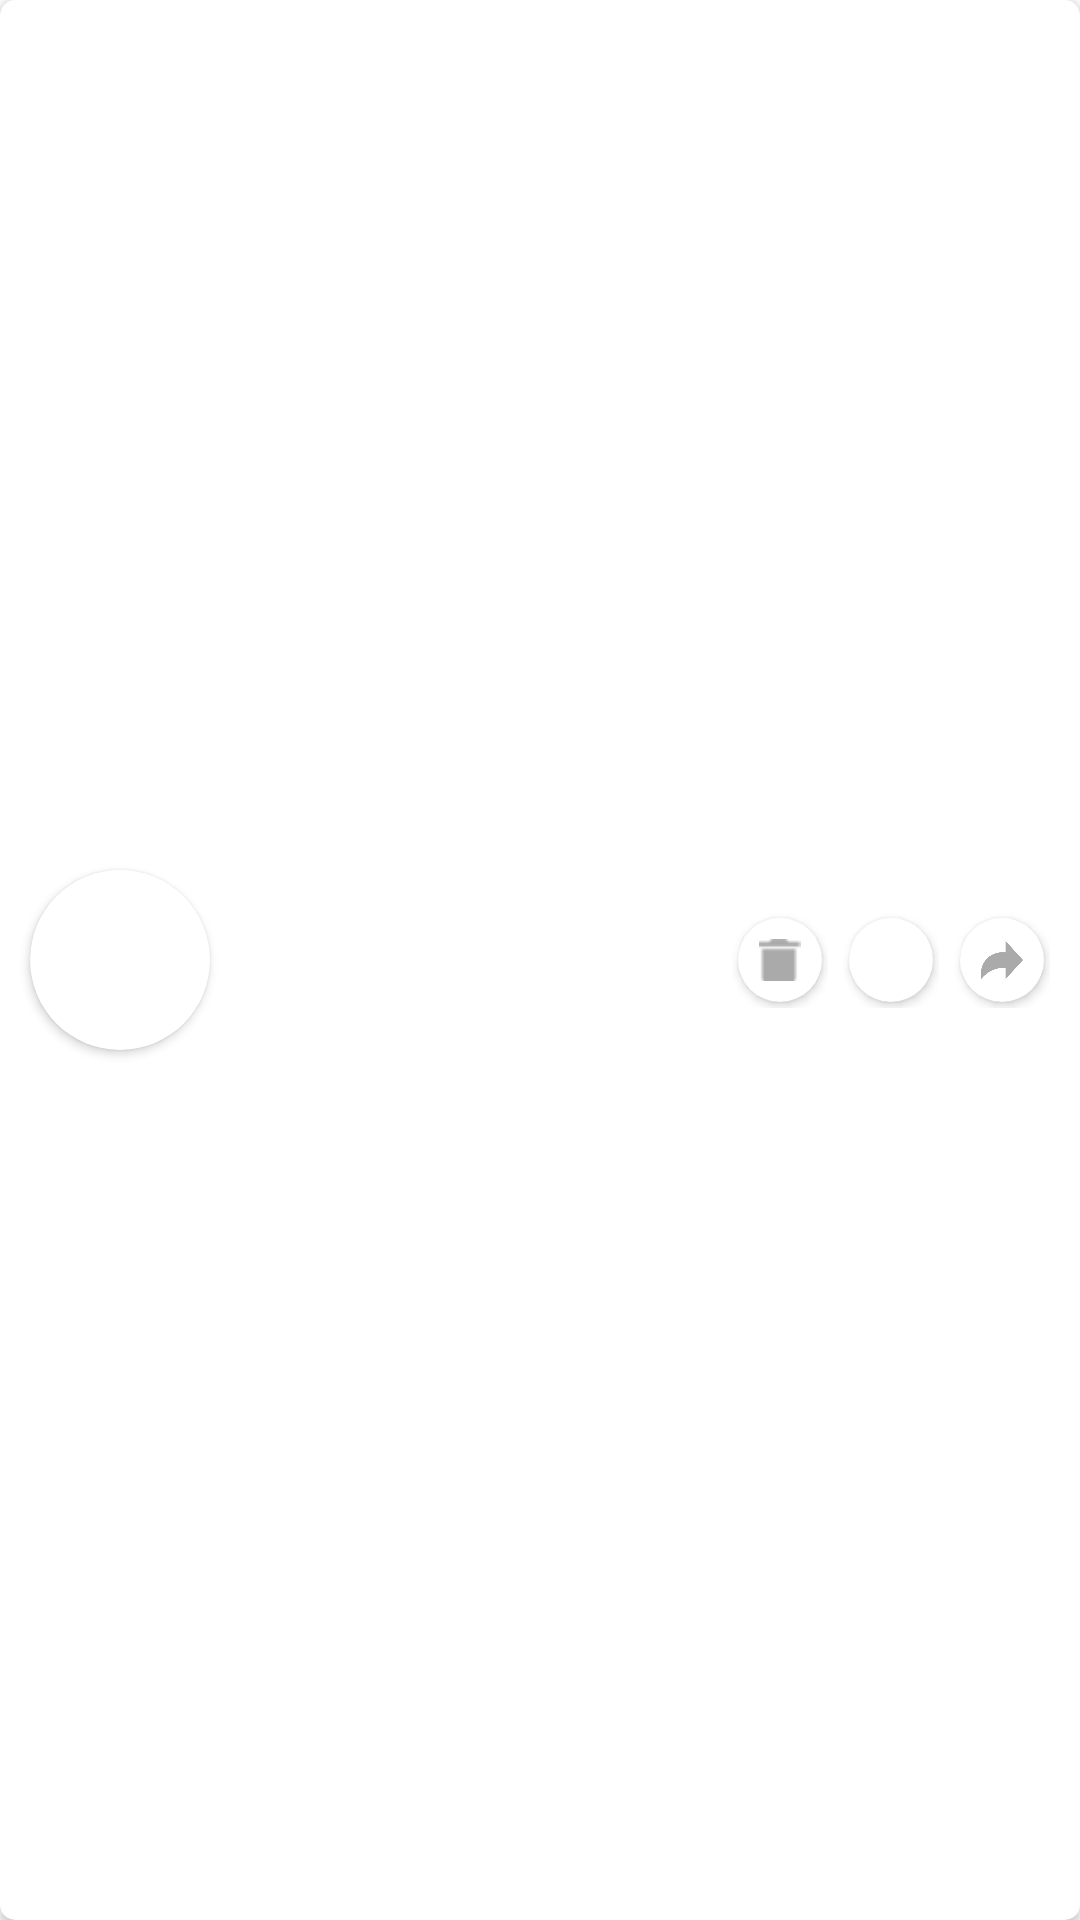

Locate icon controls on the screen. Image size 1080w x 1920h, boxes as (left=x1, top=y1, right=x2, bottom=y2).
delete: (left=759, top=939, right=801, bottom=981)
share: (left=981, top=941, right=1023, bottom=979)
